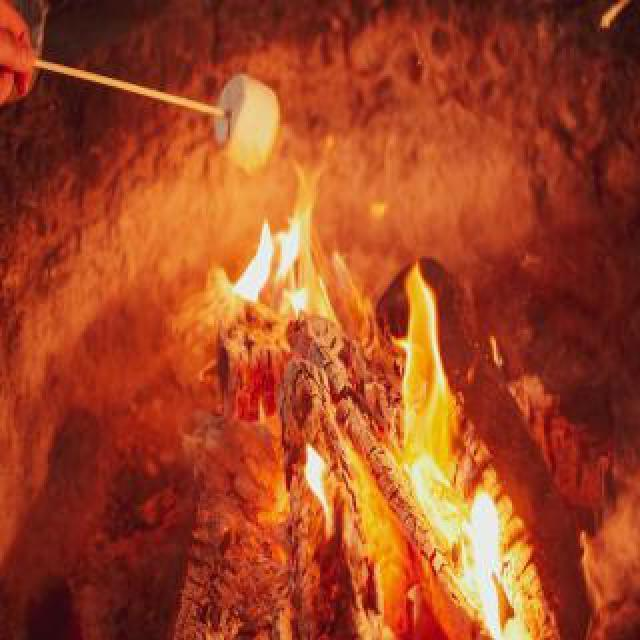Fire: (380, 232, 512, 632), (232, 146, 340, 362)
